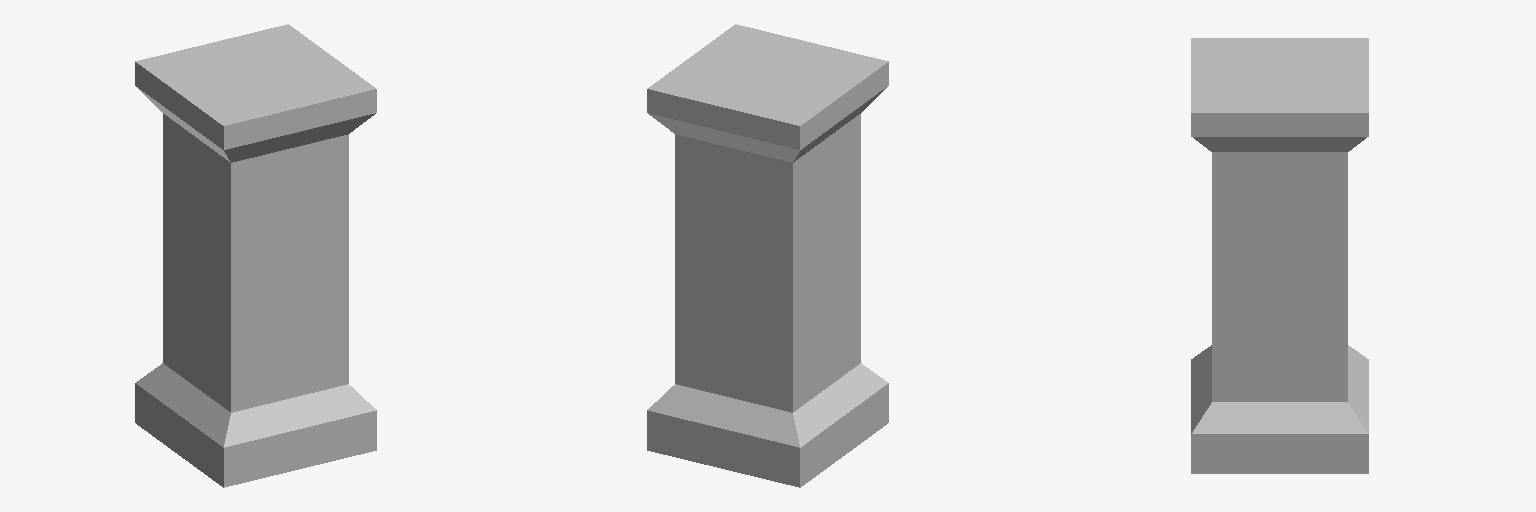
The model's file is Pillar.obj.
3 views of the same model, side by side, from view 1: azimuth 30°, elevation 25°; view 2: azimuth 150°, elevation 25°; view 3: azimuth 270°, elevation 25° (orthographic).
Visible parts, largest first — view 1: Cube; view 2: Cube; view 3: Cube.
Part boxes in pixels (x1,y1,x2,y2): Cube: (135,24,376,487); Cube: (647,24,888,487); Cube: (1191,38,1368,473).
Bounding box in the file's own units: 2.6 × 5.86 × 2.6.